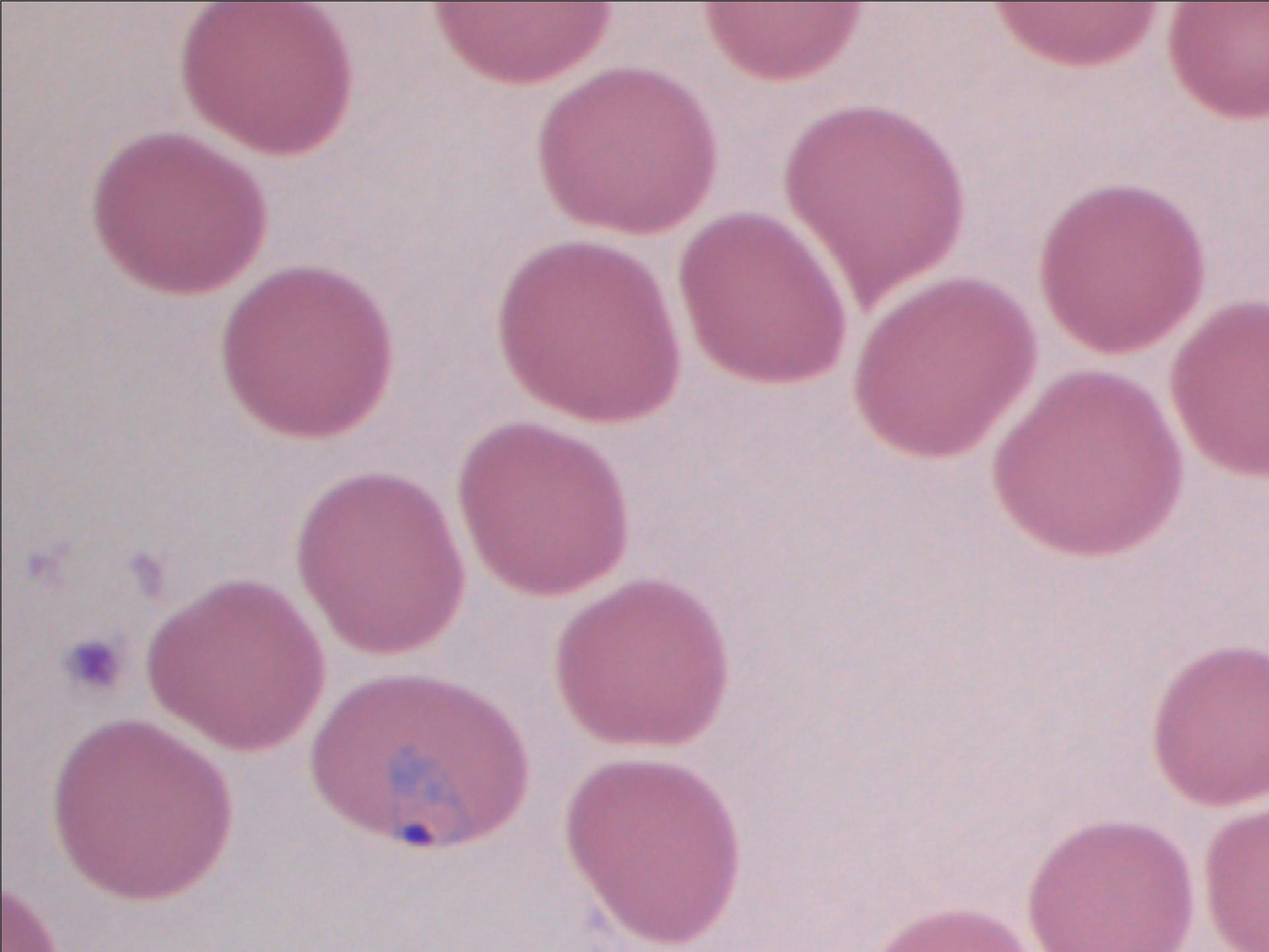Infected: (744, 106, 953, 273)
Uninfected: (307, 647, 484, 843), (88, 396, 274, 575), (1038, 43, 1213, 226), (236, 495, 414, 669), (590, 530, 766, 704), (531, 9, 699, 188), (946, 203, 1117, 368), (806, 301, 970, 473), (640, 359, 808, 524), (878, 515, 1044, 681), (554, 719, 724, 881), (425, 568, 590, 734), (69, 600, 231, 763), (1007, 658, 1171, 817), (545, 208, 707, 366), (919, 799, 1083, 946), (81, 0, 241, 125), (2, 147, 112, 296), (3, 478, 98, 638)
